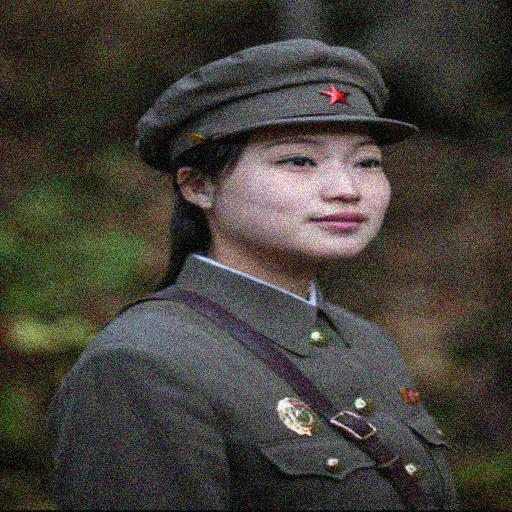north army: (81, 48, 492, 512)
